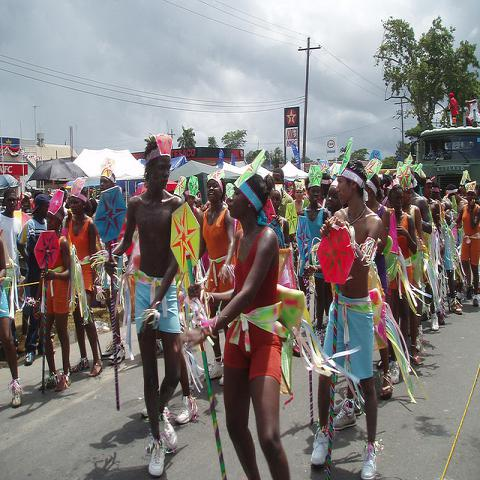truck: (415, 125, 479, 197)
